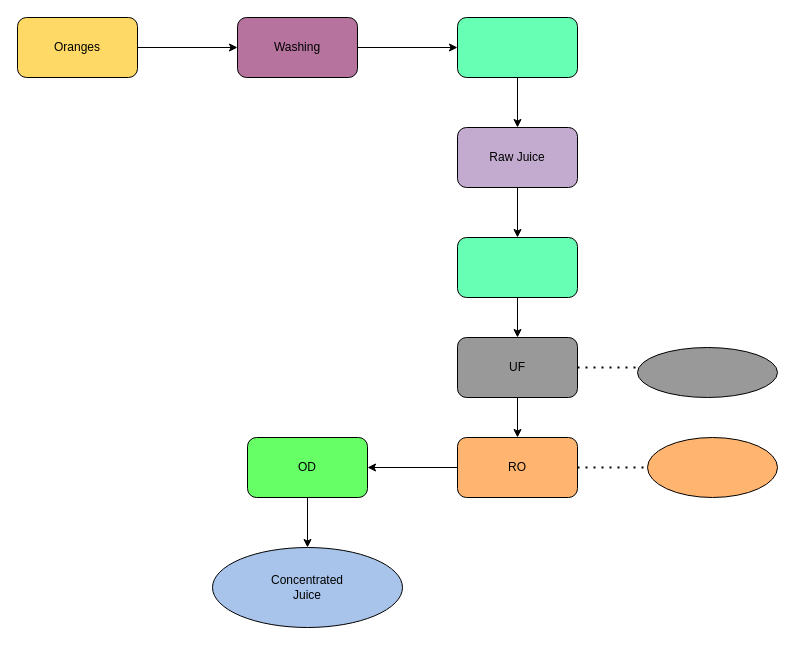
Image size: 795x645. Some labels were removed from this diagram. The centre of each missing label's shape, as x and y in pixels:
Centrifuge: the point at 517,267
Juice Extraction: the point at 517,47
Permeate: the point at 712,467
Rententate: the point at 707,372
